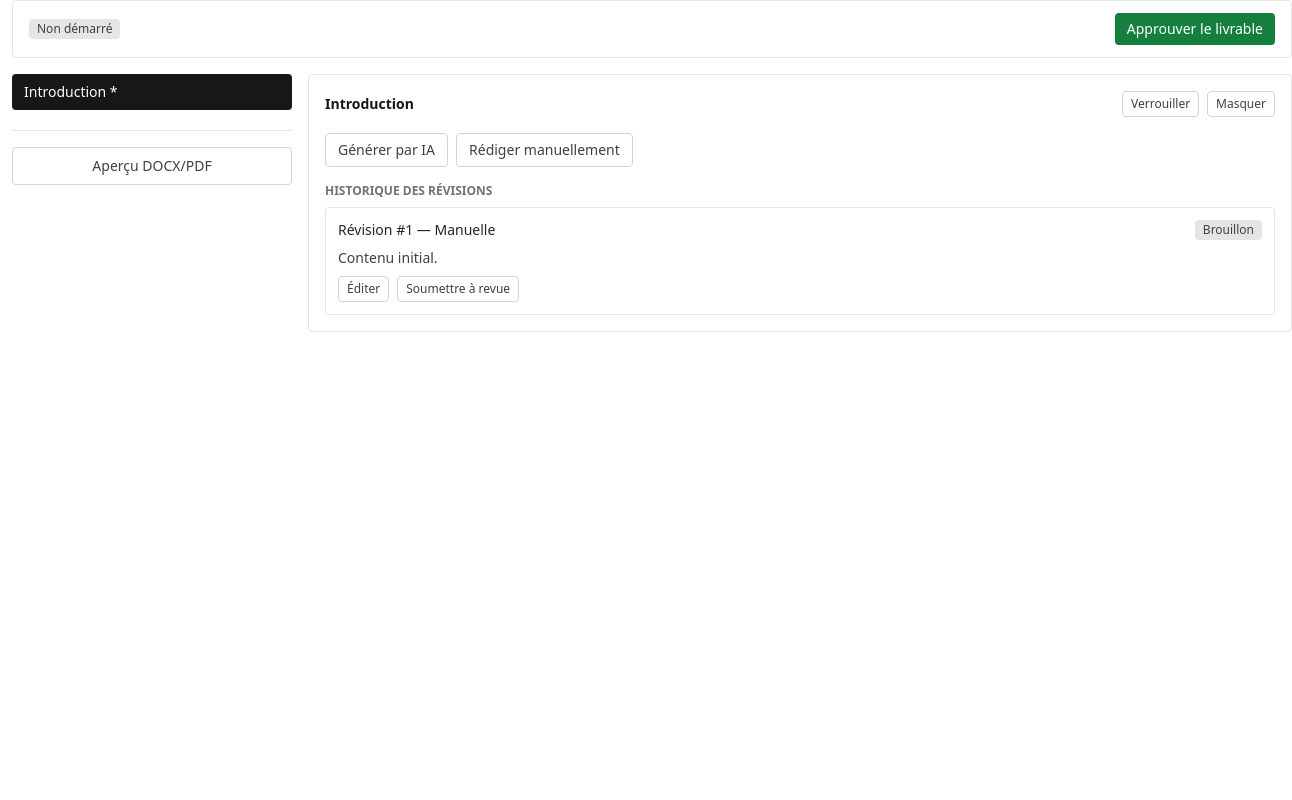
MemoEditor › surfaces the exact backend conflict message when saving a draft with a stale editVersion (mission §18, no silent overwrite)
Click the button "Éditer": (364, 289) [338,276,389,302]
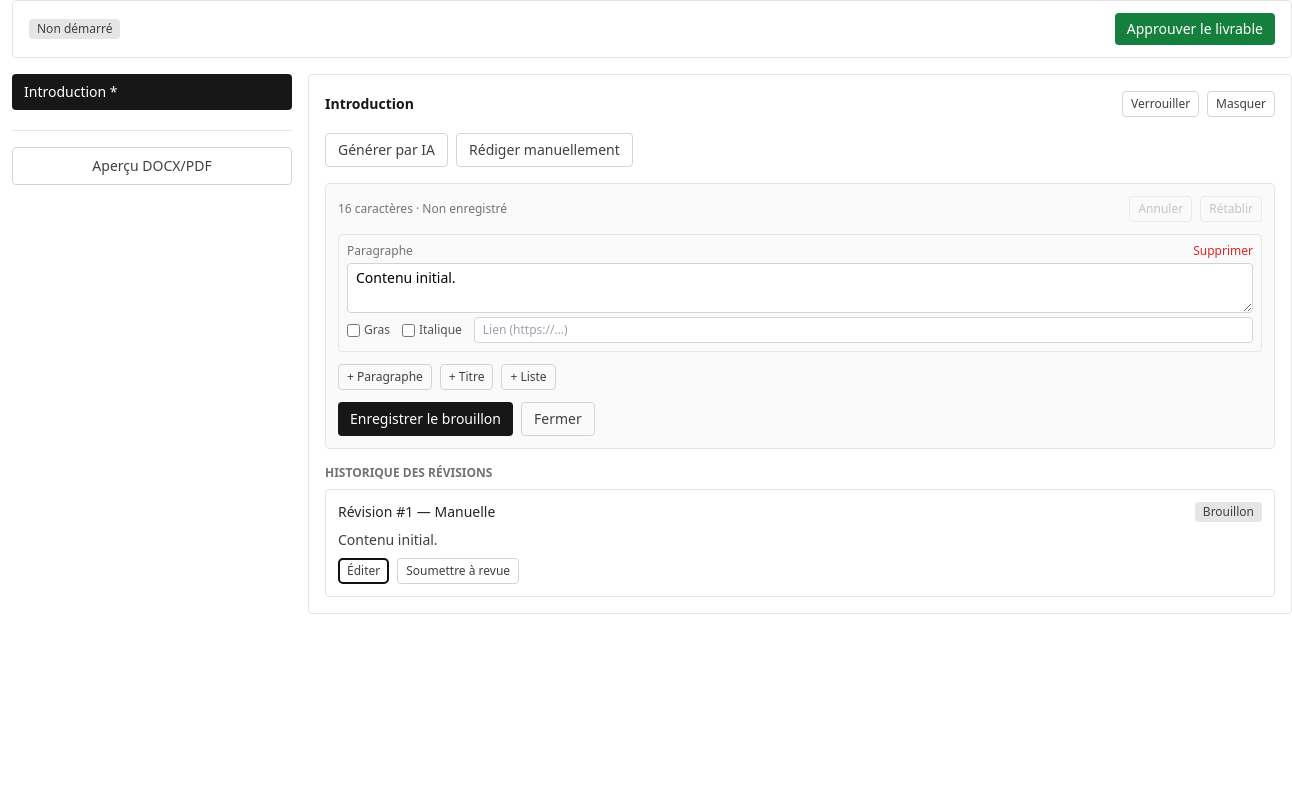
Click the button "Enregistrer le brouillon": (426, 419) [338,402,513,436]
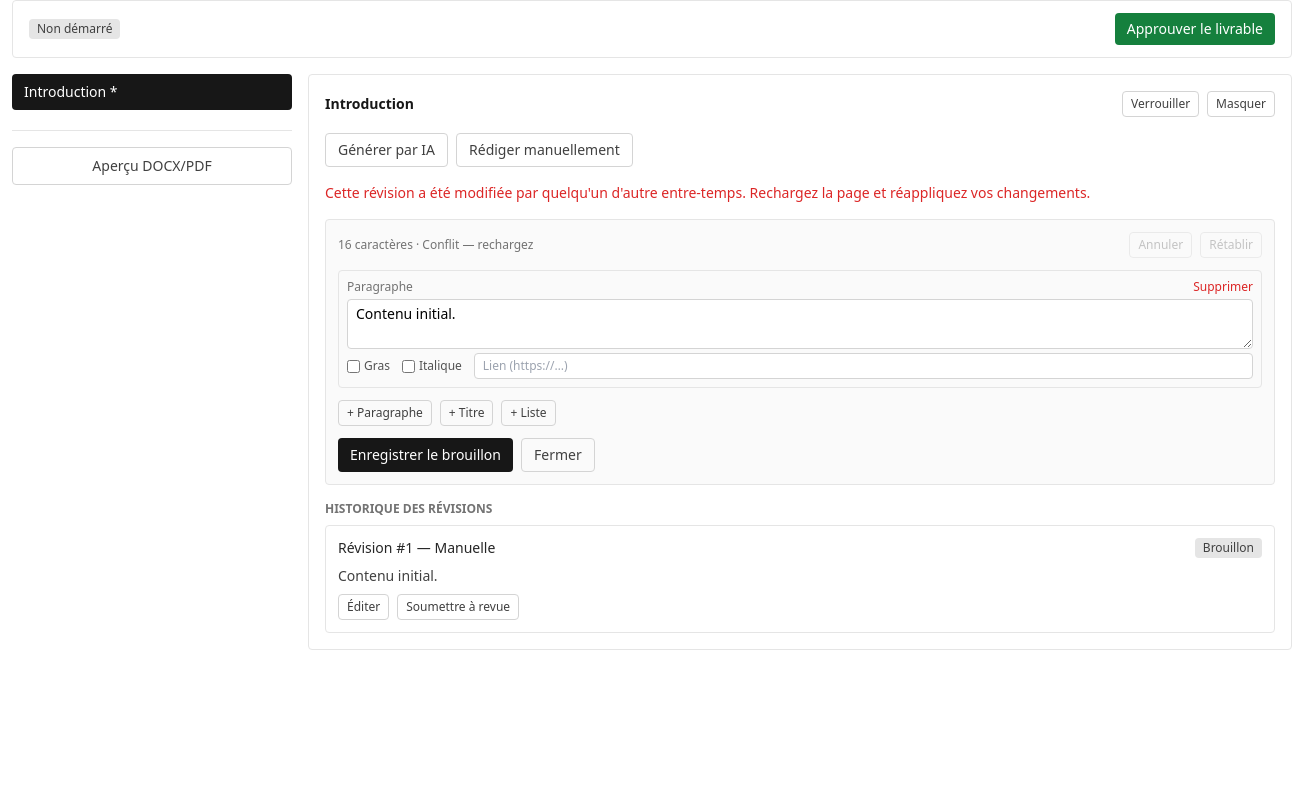
Expected: the message shows "modifiée par quelqu'un d'autre entre-temps", [325,183,1090,202]
